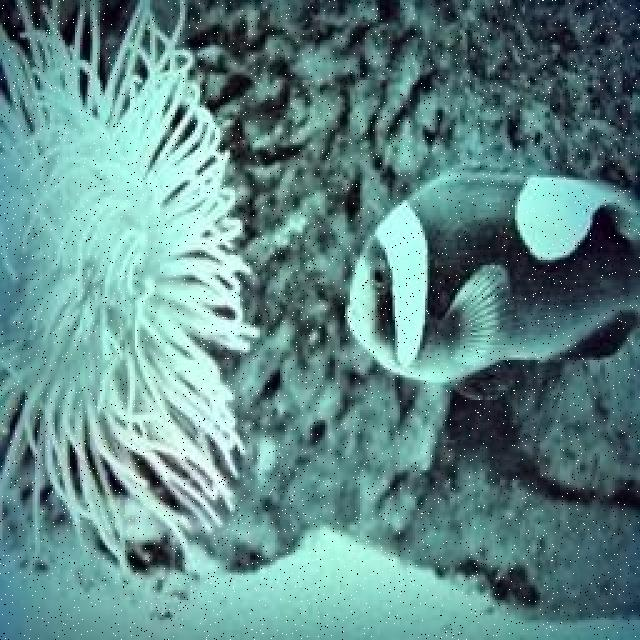fish: (344, 172, 637, 379)
reefs: (0, 1, 263, 577)
